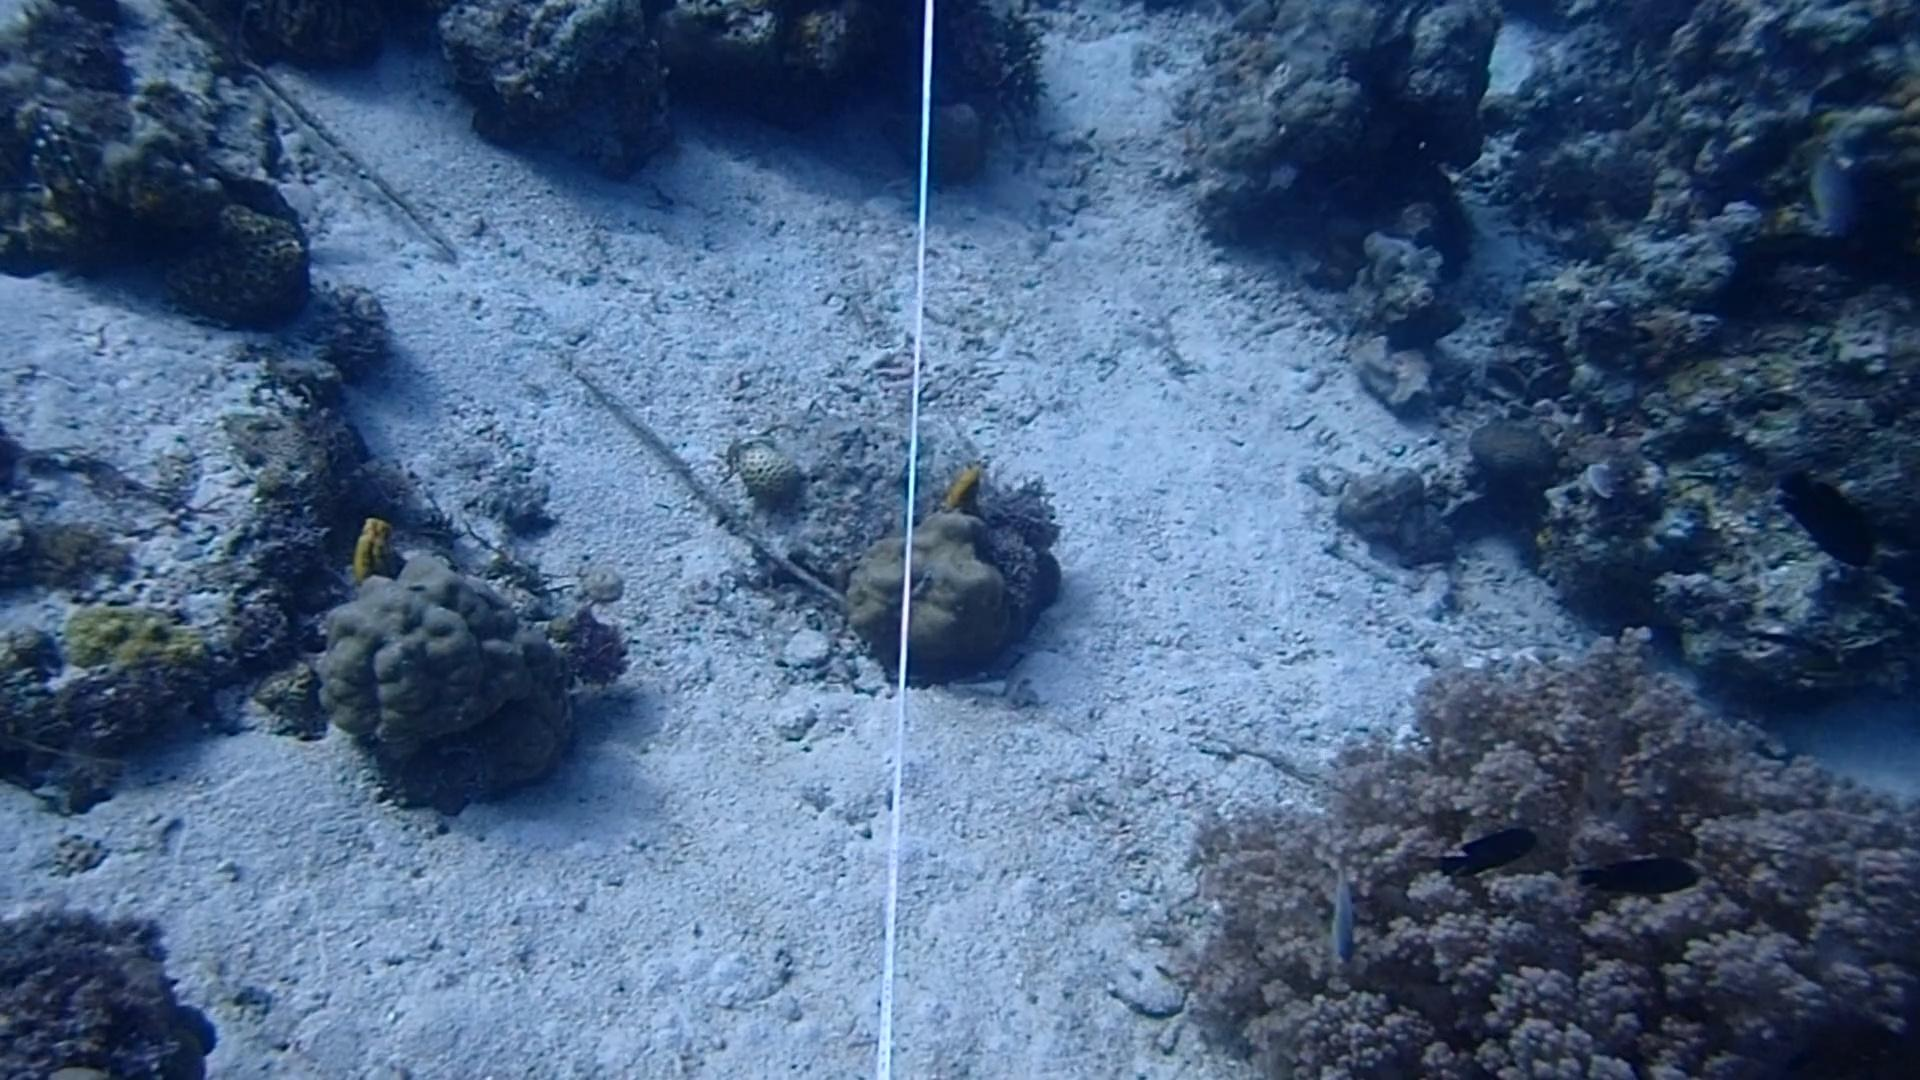Dark Fish: (1764, 465, 1888, 574), (1572, 845, 1710, 909), (1418, 810, 1544, 877)
Light Fish: (1796, 133, 1871, 251), (1305, 866, 1382, 971)
